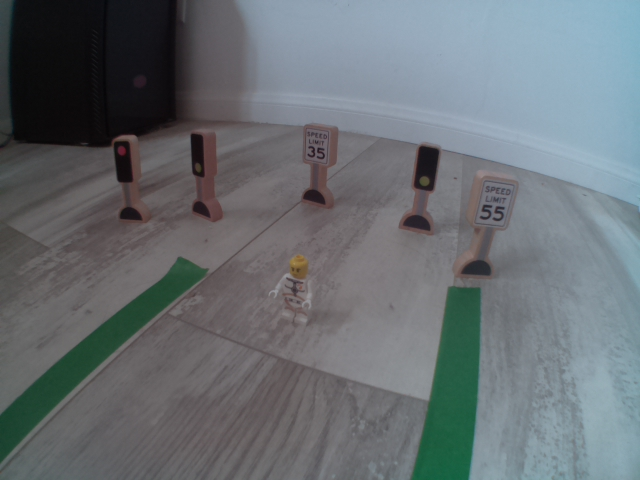Green Traffic Light: (408, 137, 443, 195), (182, 129, 216, 182)
Red Traffic Light: (108, 135, 145, 187)
Speed Limit 35: (298, 121, 336, 169)
Speed Limit 55: (472, 170, 517, 232)
person: (269, 250, 321, 326)
